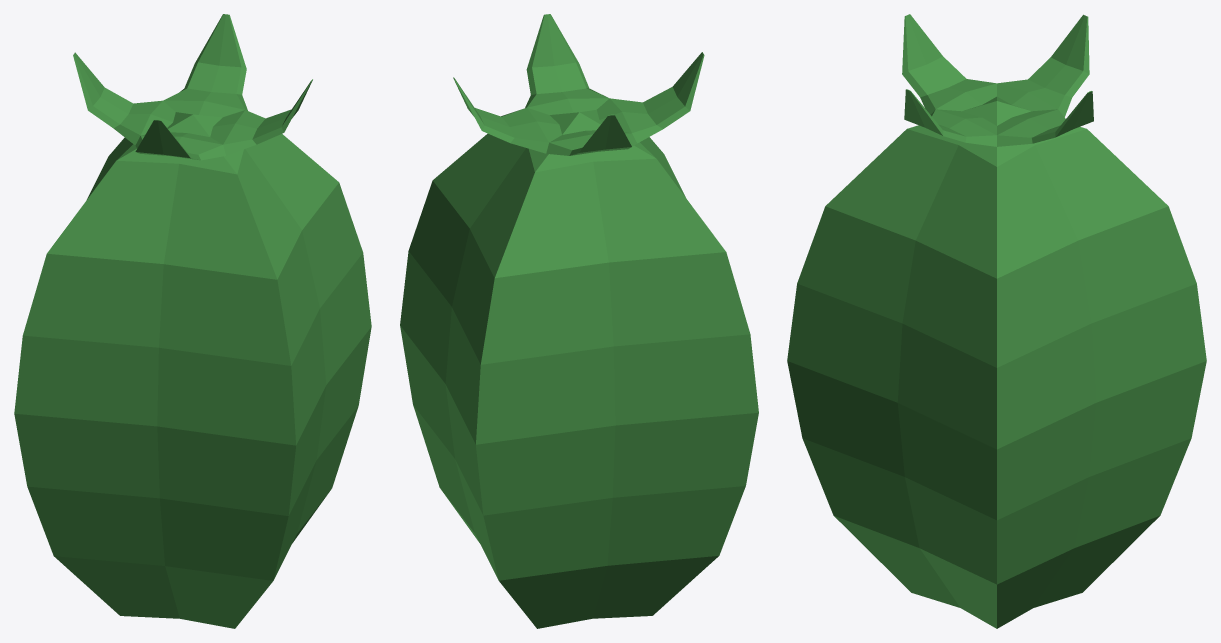
File: Desert_Cactus02.fbx
The picture shows the model from 3 angles, left to right: view 1: azimuth 30°, elevation 25°; view 2: azimuth 150°, elevation 25°; view 3: azimuth 270°, elevation 25°; orthographic projection.
Visible parts, largest first — view 1: Cactus2; view 2: Cactus2; view 3: Cactus2.
Part boxes in pixels (left/top/right/bottom): Cactus2: left=14, top=14, right=371, bottom=628; Cactus2: left=400, top=14, right=758, bottom=628; Cactus2: left=787, top=14, right=1206, bottom=628.
Size of the model in its own units: 33.64 by 33.64 by 47.8.
